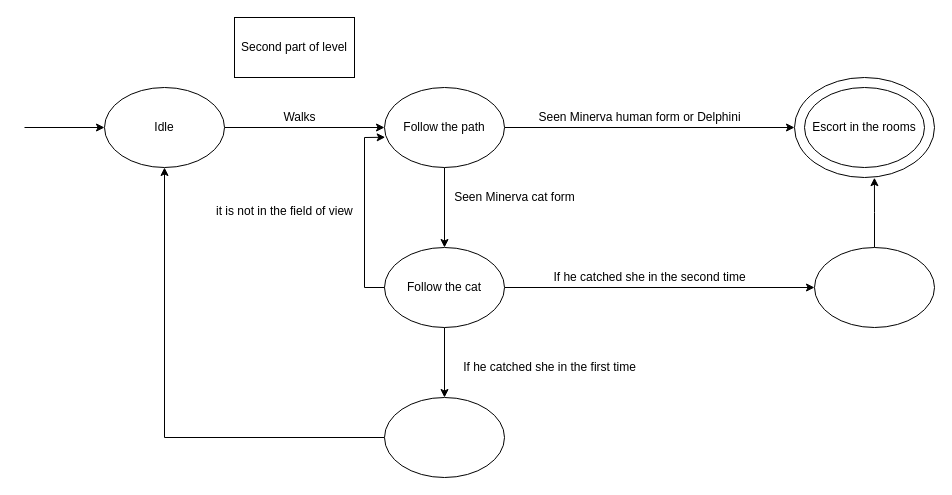
Image size: 952x495. Some labels were removed from this diagram. Here are the shapes that lost their labels. From the top down, the centre of each, then its label:
point 874,287: Hit
point 444,437: Throw out
